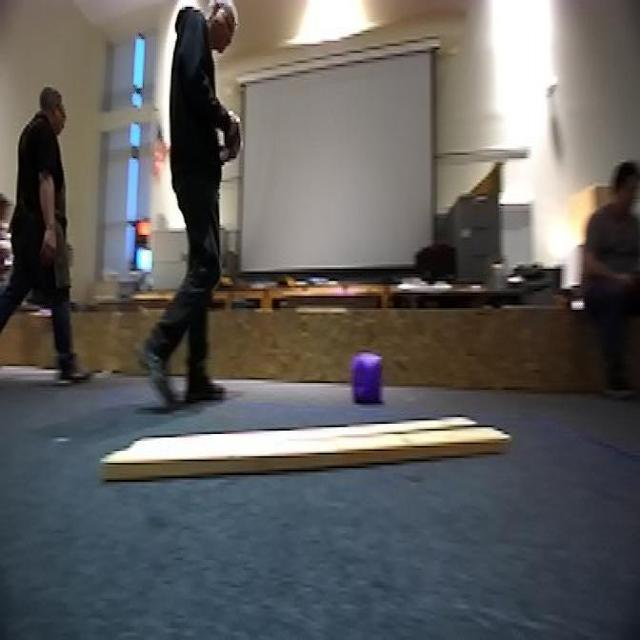frc_cube: (348, 356, 386, 405)
